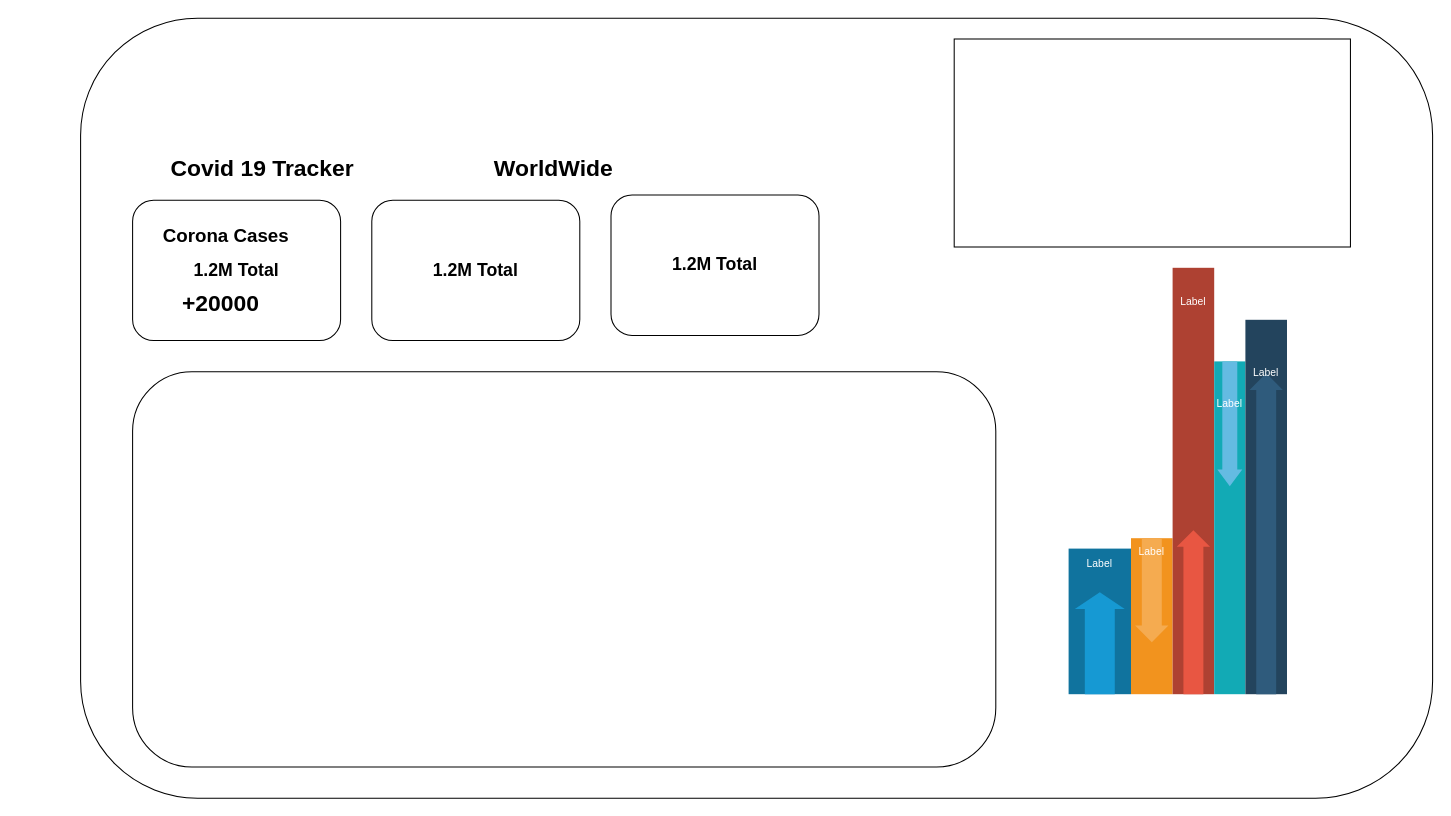
Some shapes in this 1451 by 816 pixel diagram are drawn without their labels. Here are the shapes that lost their labels. From the top down, the centre of each, then its label:
At (x=1151, y=142): "Cases By County".
At (x=564, y=569): "MAP".
